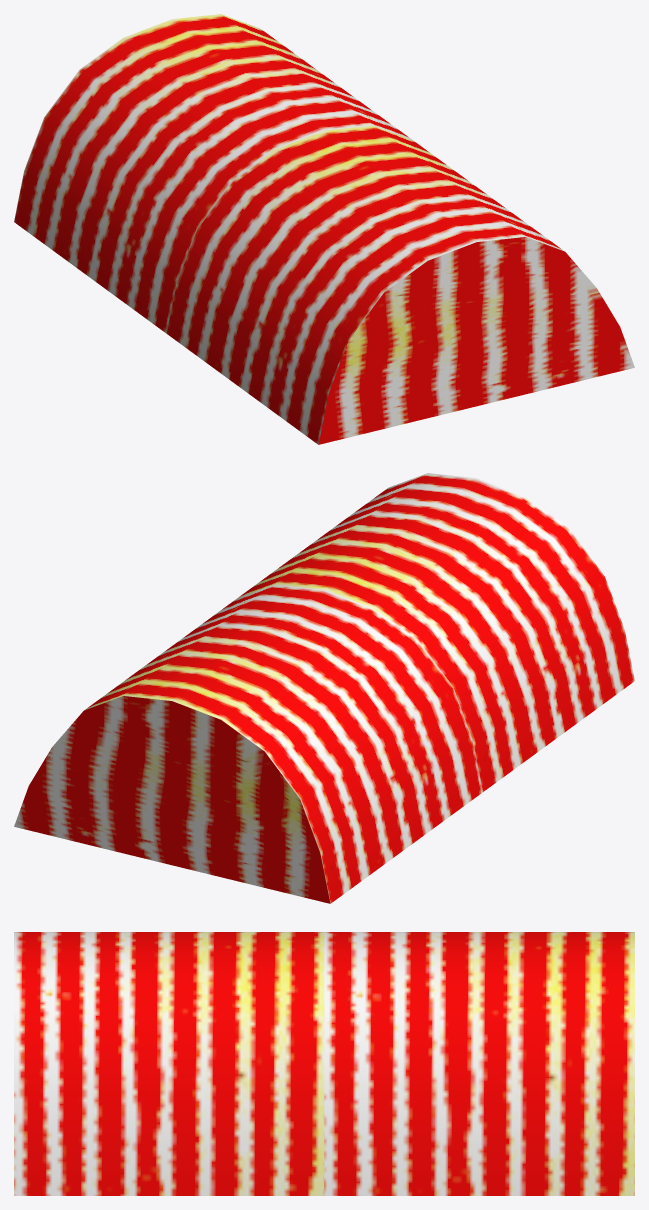
Rendered from canopi 3.FBX.
The picture shows the model from 3 angles, top to bottom: view 1: azimuth 30°, elevation 25°; view 2: azimuth 150°, elevation 25°; view 3: azimuth 270°, elevation 25°; orthographic projection.
Visible parts, largest first — view 1: Cylinder001; view 2: Cylinder001; view 3: Cylinder001.
Part boxes in pixels (<box>): Cylinder001: <box>14,14,634,444</box>; Cylinder001: <box>14,473,634,903</box>; Cylinder001: <box>14,932,634,1195</box>.
Size of the model in its own units: 24 by 11.9 by 40.
